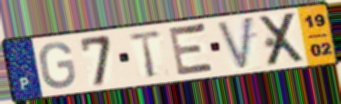7: (78, 34, 113, 88)
E: (167, 21, 218, 79)
G: (37, 41, 78, 91)
T: (128, 28, 165, 80)
V: (214, 14, 256, 73)
X: (257, 10, 308, 69)
